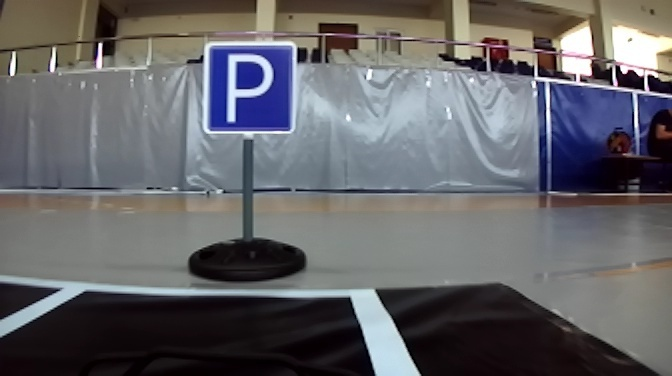park: (205, 39, 297, 132)
